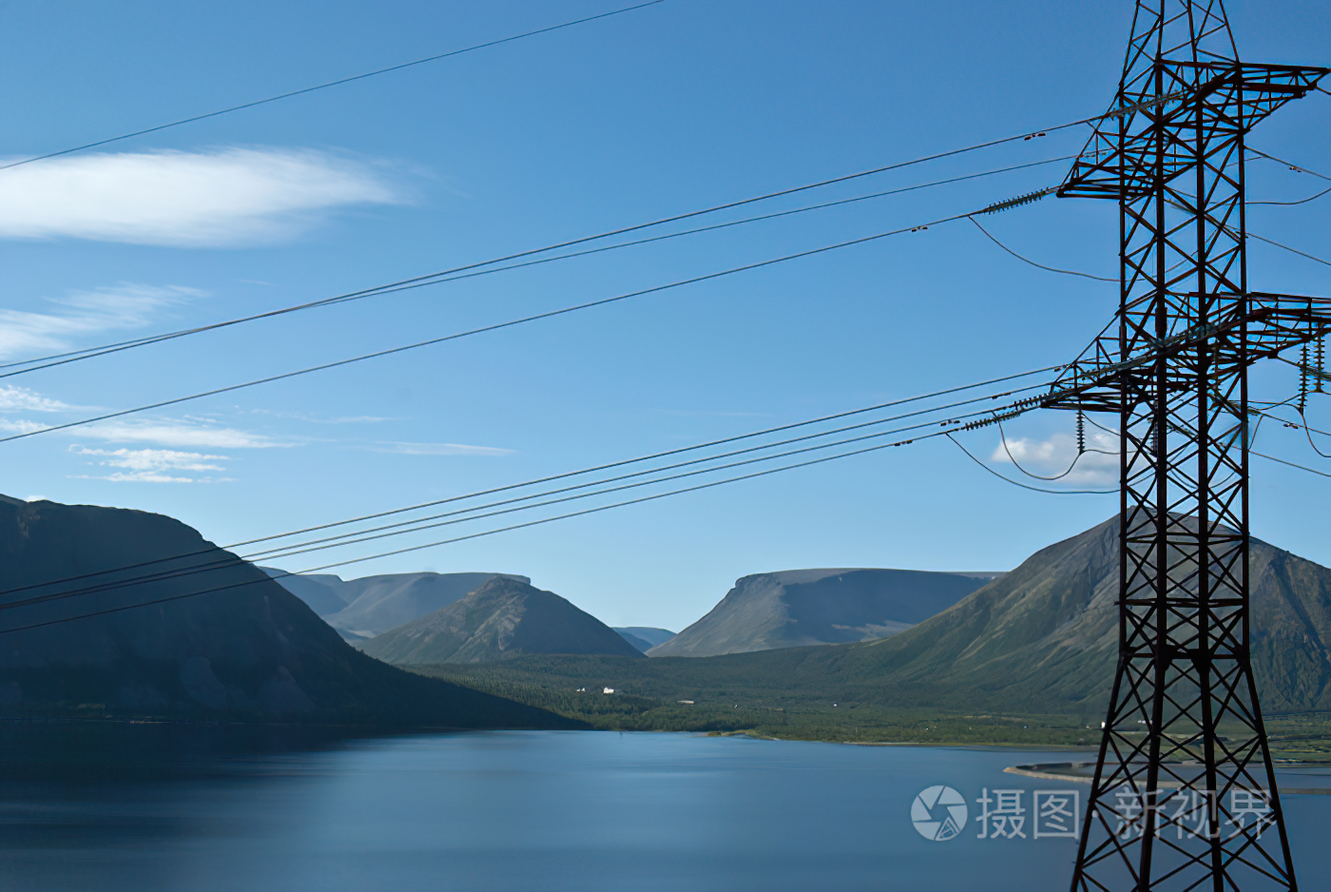insulator: (983, 187, 1047, 214), (962, 408, 1020, 433), (1294, 343, 1309, 410), (1006, 392, 1058, 406), (1315, 330, 1325, 392), (1075, 410, 1087, 453)
